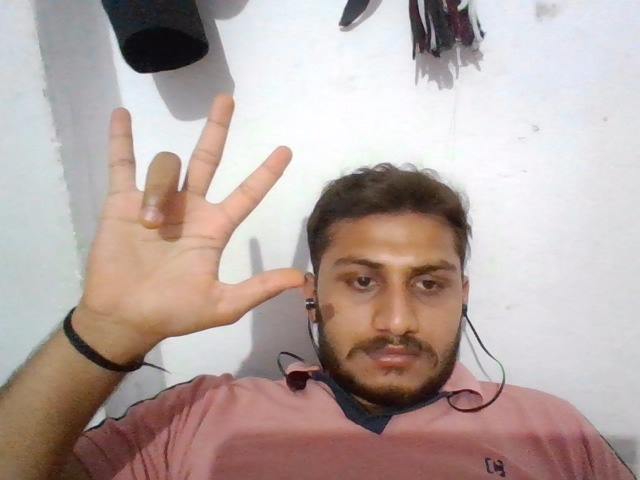ILoveYou: (73, 87, 312, 334)
